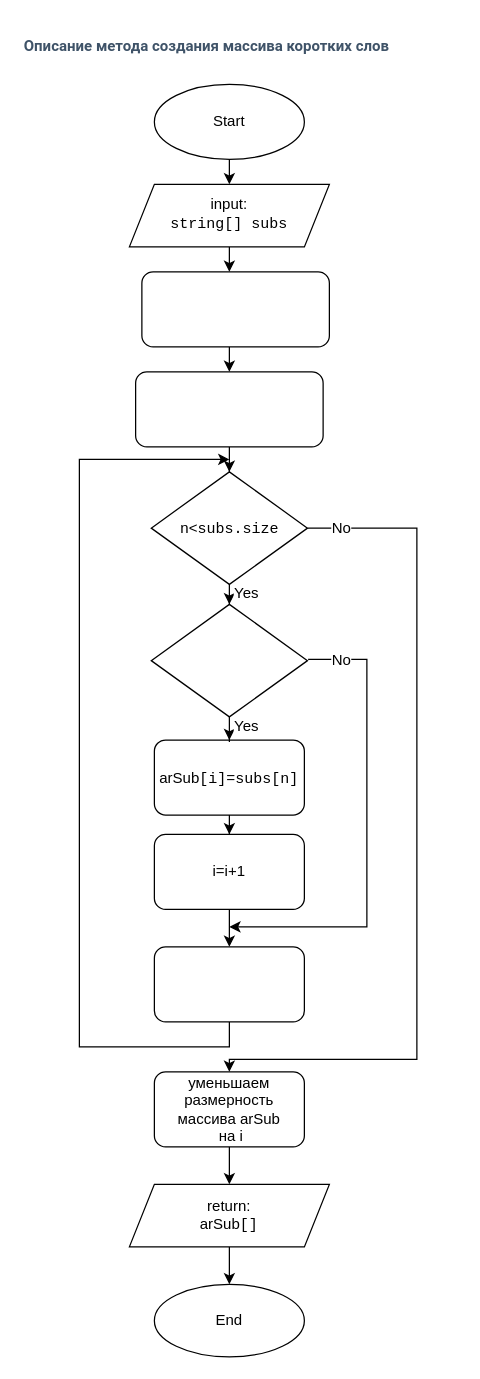
The diagram is 480 pixels wide and 1379 high, and some of its shapes have lost their labels. The centre of each missing label's shape, as x and y in pixels:
"arSub .lenght<4" goes at point 229,660.
"n=0; i=0" goes at point 228,409.
"n=n+1" goes at point 228,984.
"Создаем новый массив arSub размером равному на входе" goes at point 235,309.
